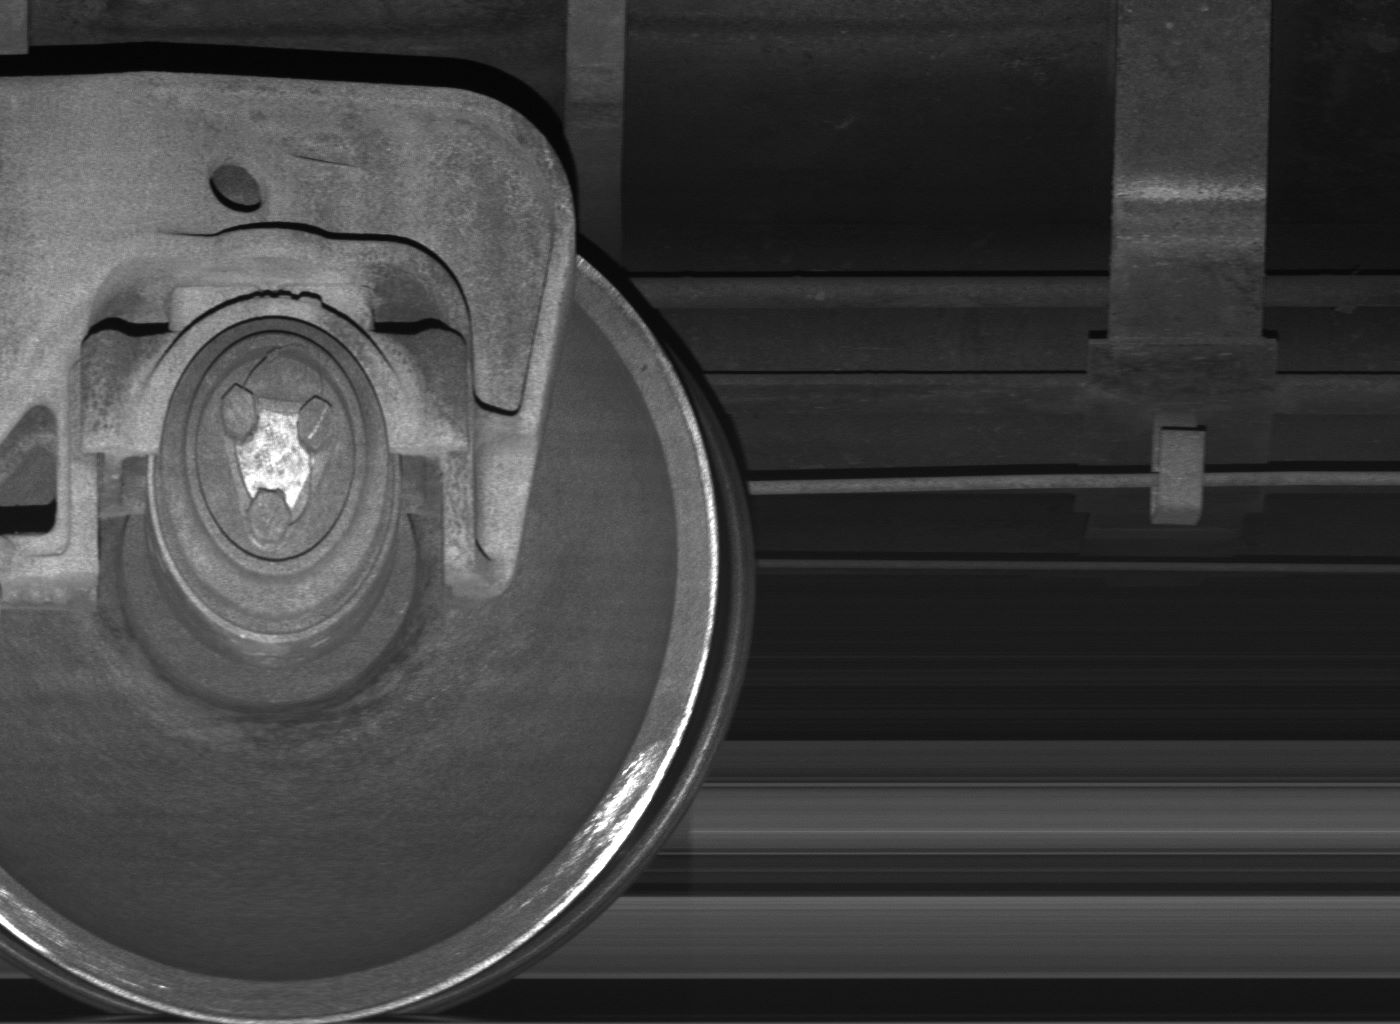normal: (1151, 416, 1210, 527)
